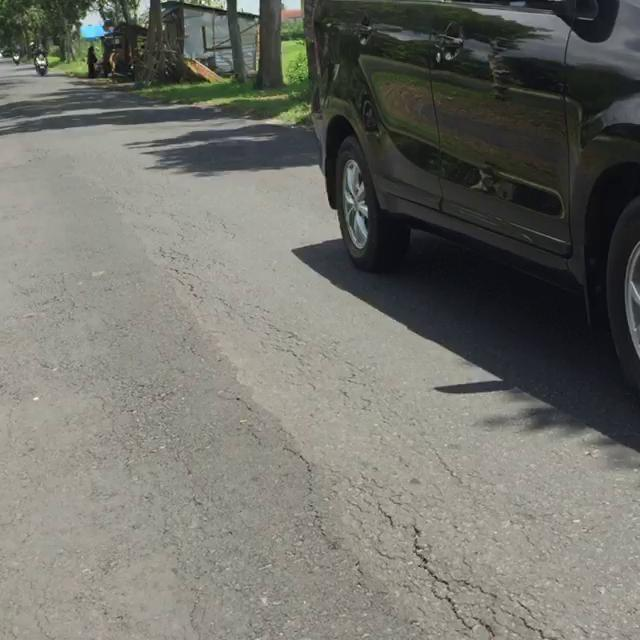retak_kulit_buaya: (364, 490, 547, 640)
